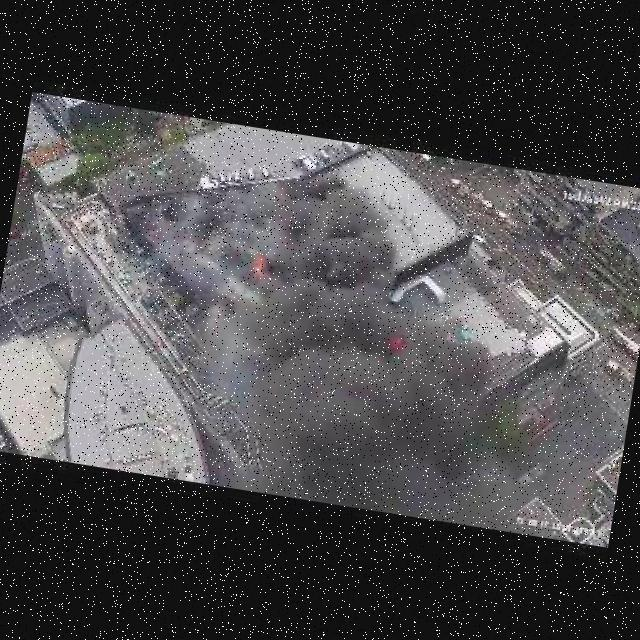Fire: (250, 257, 269, 279)
Smoke: (116, 152, 567, 534)
